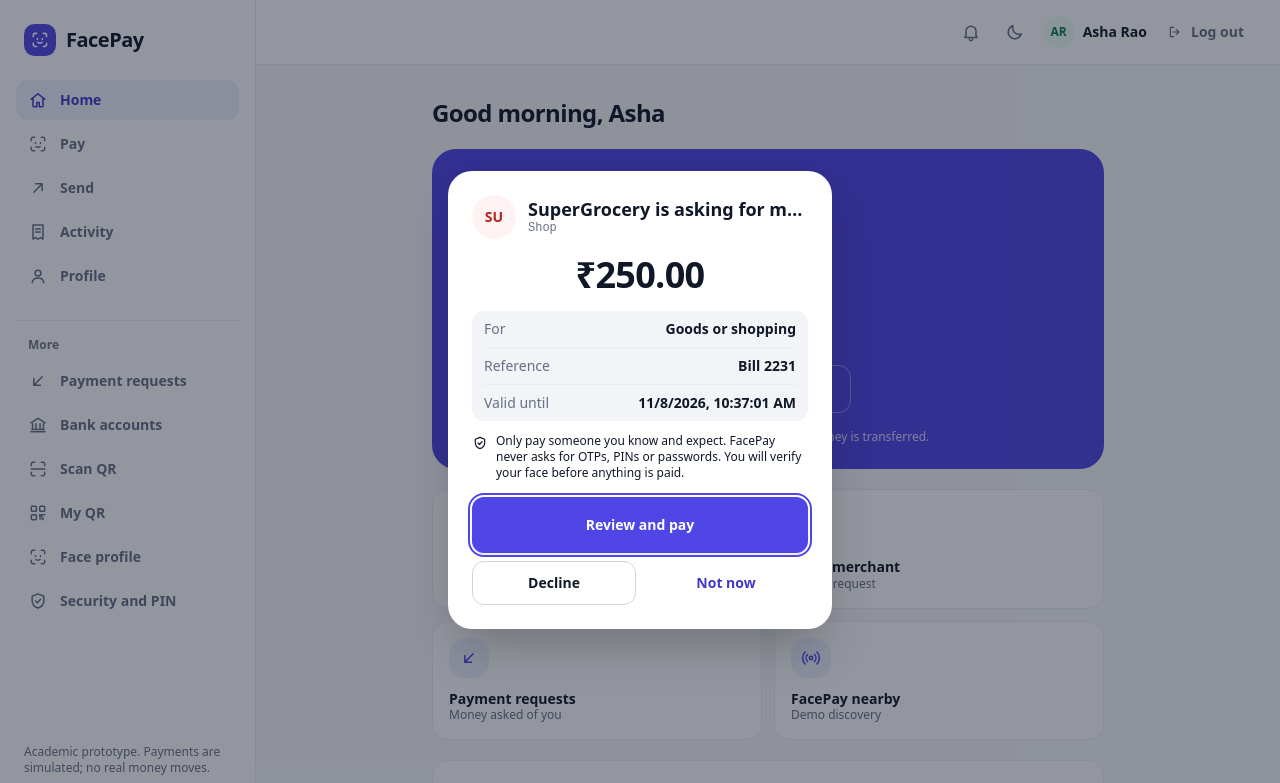
Scenario: the incoming request pop-up › a shop bill opens its checkout; Decline says no; Not now hides it for this session
Expected: the dialog shows "SuperGrocery is asking for money", [448,171,832,629]
Click the button "Decline".
click(554, 583)  # box [472,561,636,605]
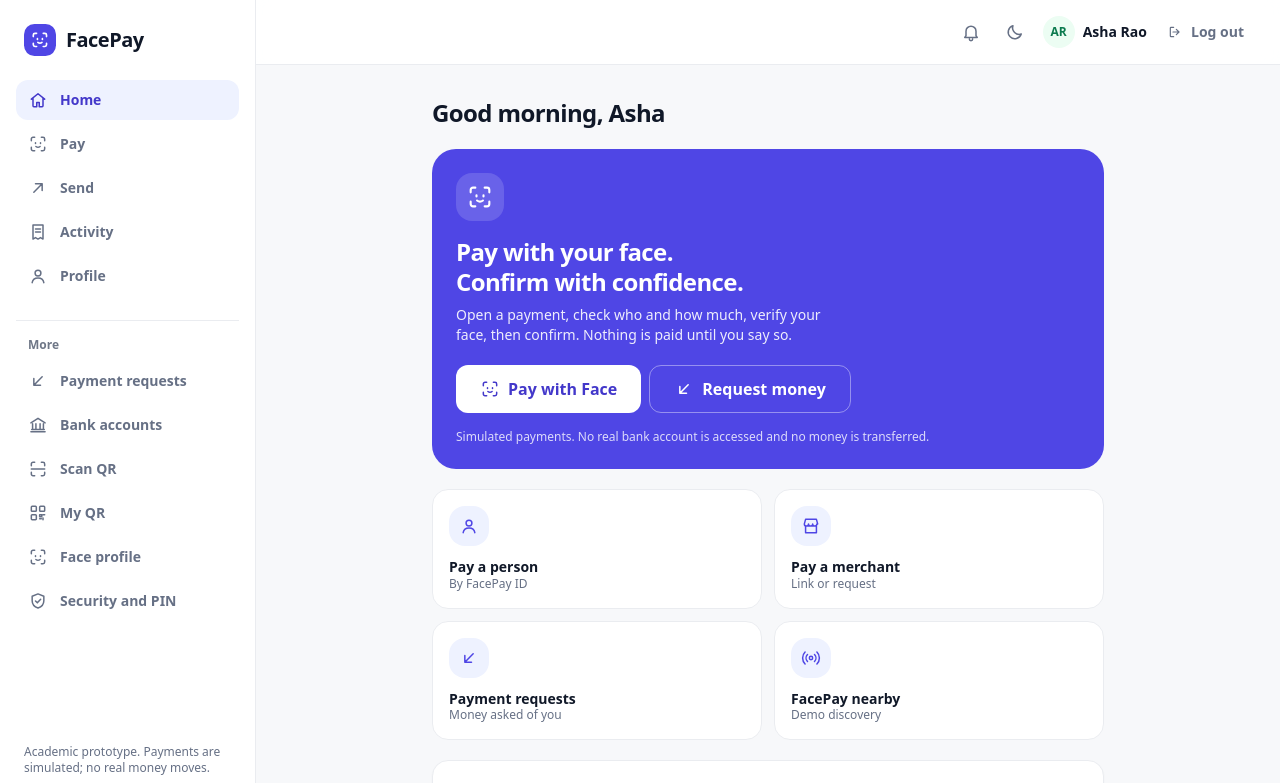
Now the dialog is gone
